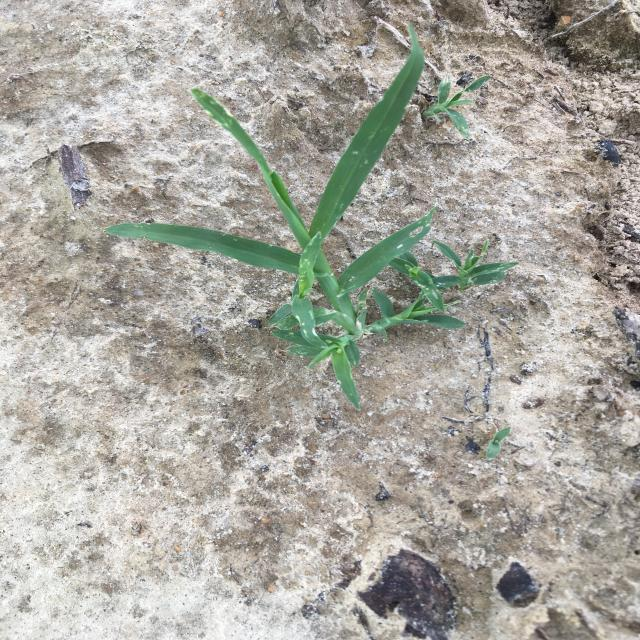Goosegrass: (103, 23, 465, 410), (421, 74, 492, 140), (431, 239, 520, 290)
